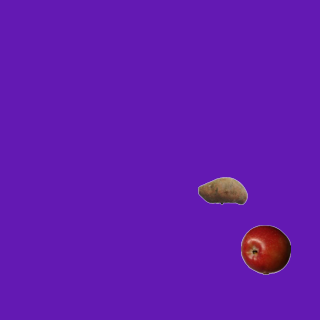Apple Braeburn: (240, 224, 290, 274)
Potato Sweet: (197, 165, 247, 215)
